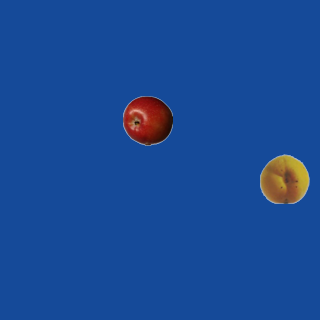Apple Braeburn: (122, 95, 172, 145)
Peach 2: (259, 153, 309, 203)
